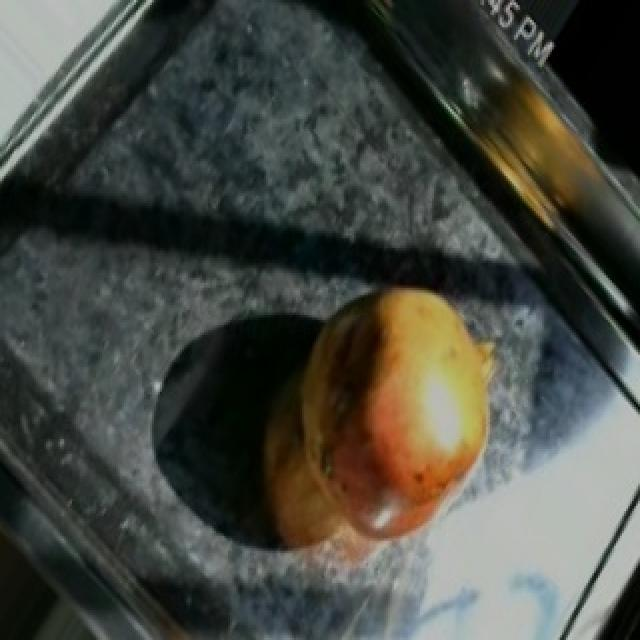fruit: (270, 248, 530, 536)
